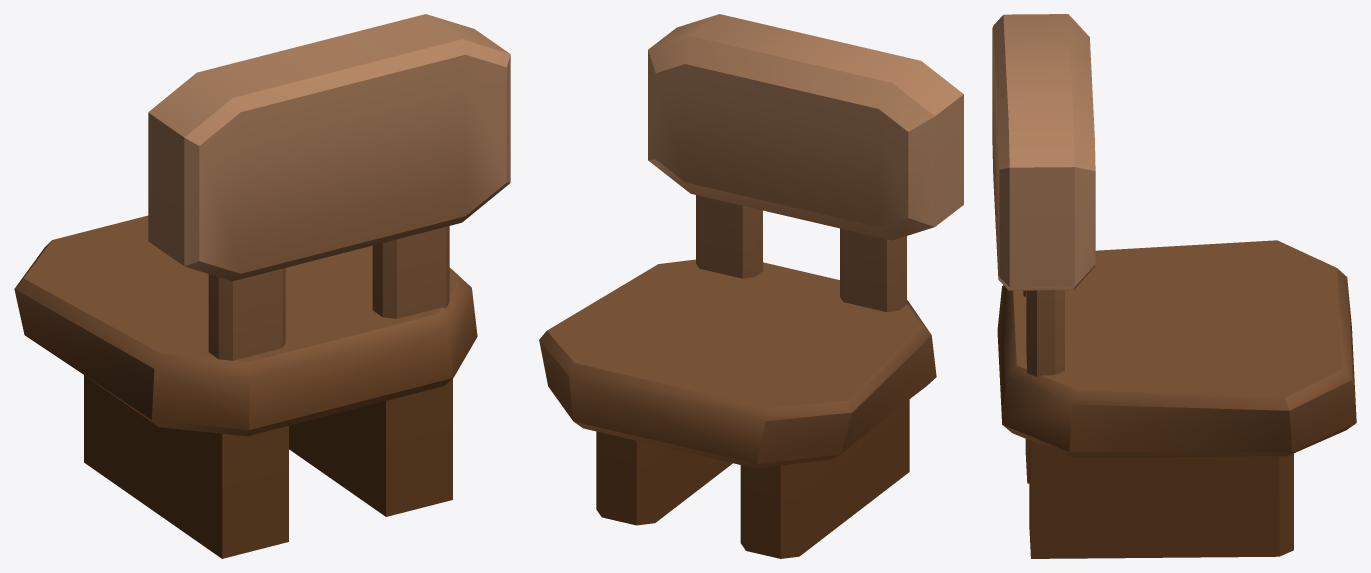
The model's file is Chair.fbx.
The picture shows the model from 3 angles, left to right: view 1: azimuth 30°, elevation 25°; view 2: azimuth 150°, elevation 25°; view 3: azimuth 270°, elevation 25°; orthographic projection. The views are drawn at different scales.
Parts seen in each view (by area): view 1: Chair.007; view 2: Chair.007; view 3: Chair.007.
Boxes of the visible parts, x1,y1,x2,y2 form: Chair.007: (14,14,510,558); Chair.007: (539,14,963,558); Chair.007: (992,14,1356,558).
Size of the model in its own units: 0.7276 by 0.9067 by 0.6842.
Materials: 1 (1 with a texture image).
